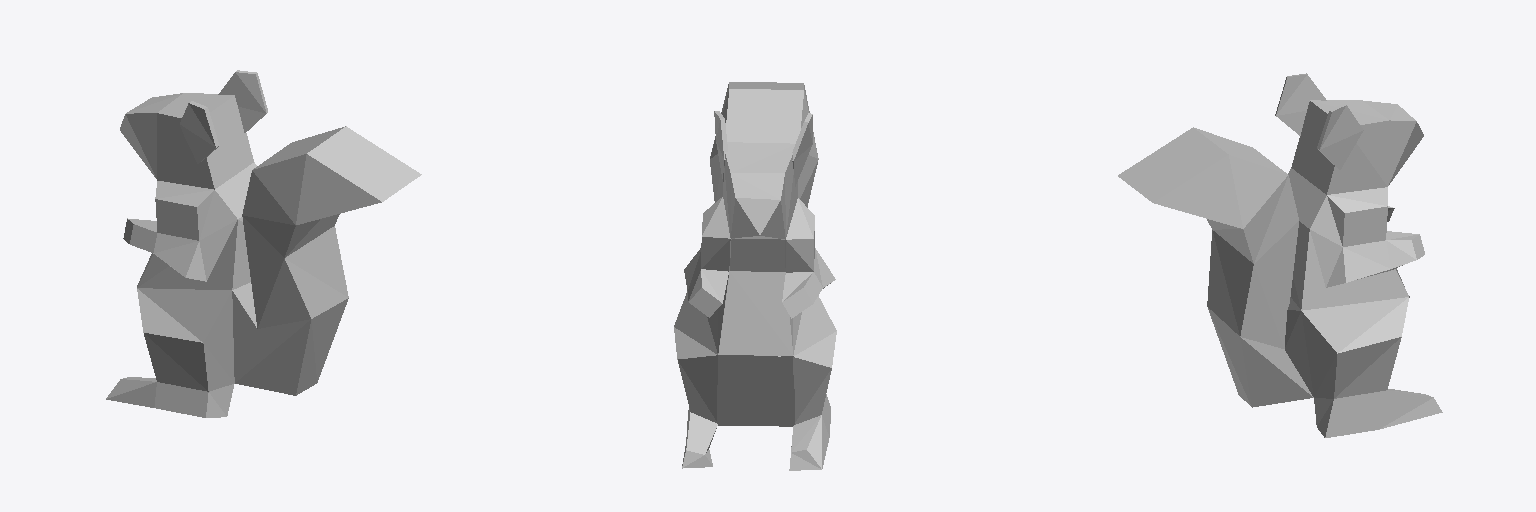
File: squirrel.obj
The picture shows the model from 3 angles: view 1: azimuth 30°, elevation 25°; view 2: azimuth 150°, elevation 25°; view 3: azimuth 270°, elevation 25°; orthographic projection.
Bounding box in the file's own units: 0.2679 × 0.3947 × 0.3687.